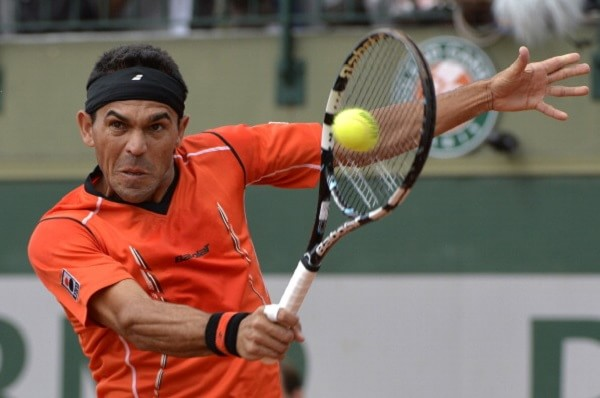tennis ball: (330, 110, 379, 154)
tennis player: (24, 42, 319, 397)
